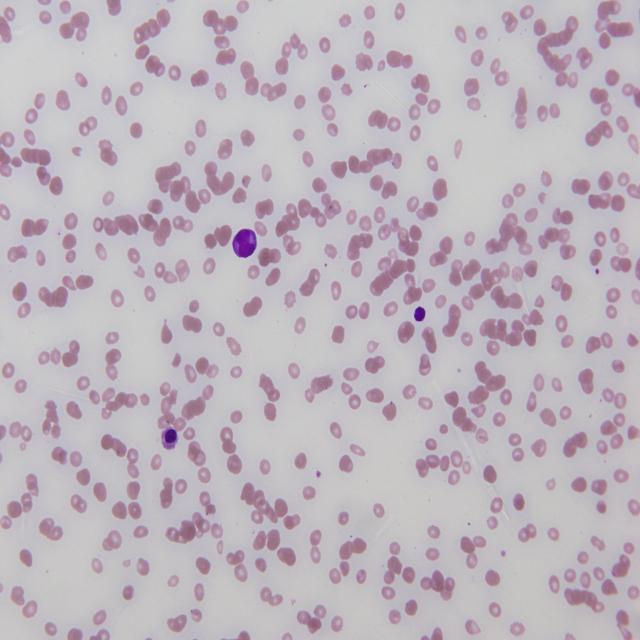cell: (232, 230, 256, 258), (161, 427, 178, 449), (414, 306, 426, 322)
